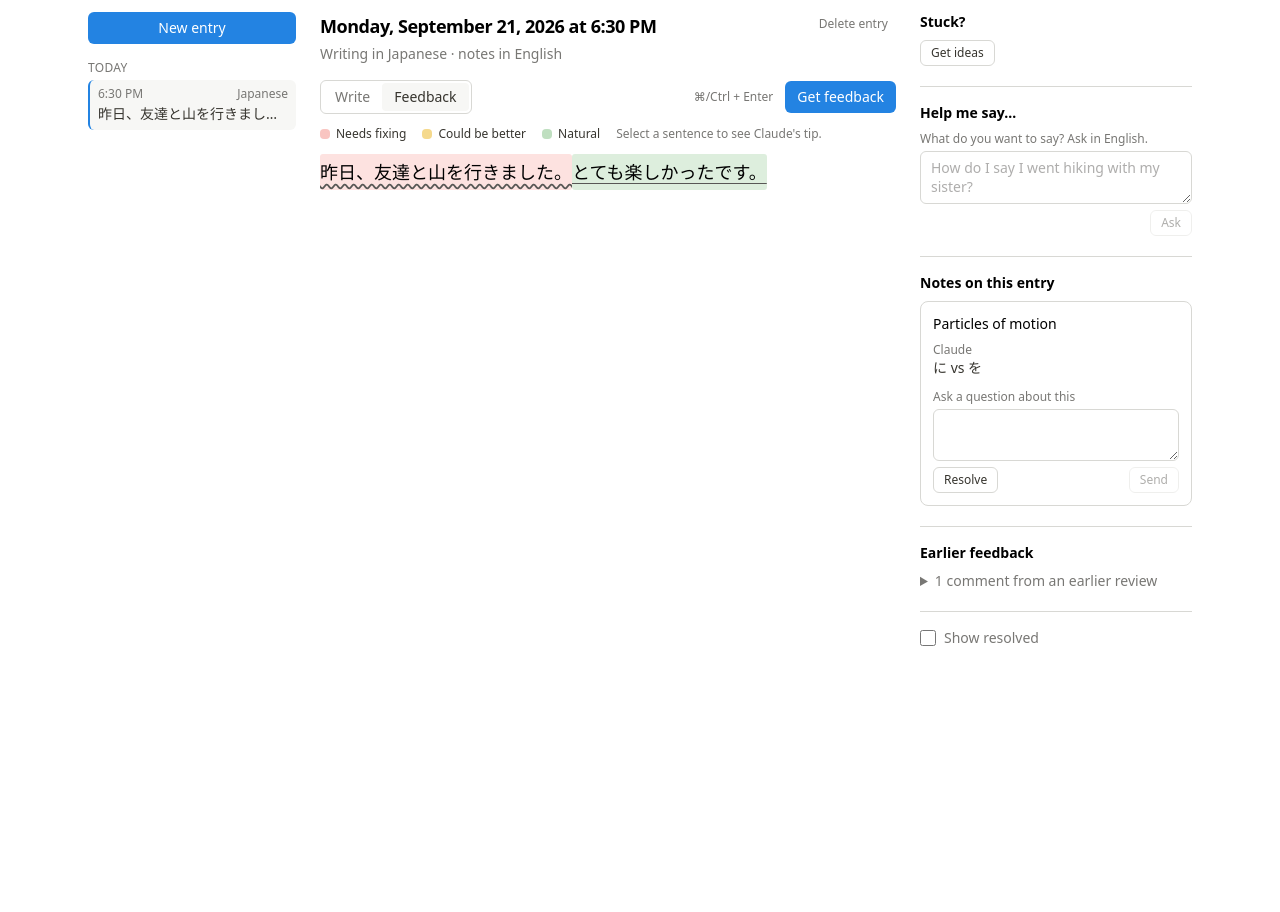
Test: DiaryView › keeps entry notes and earlier feedback in the side panel, hiding resolved ones until asked
Expected: the text "Particles of motion" is shown, [933,314,1057,332]
Expected: the text "Nice use of とても" is not shown
Click the checkbox labelled "Show resolved" at (928, 638), box [920,630,936,646]
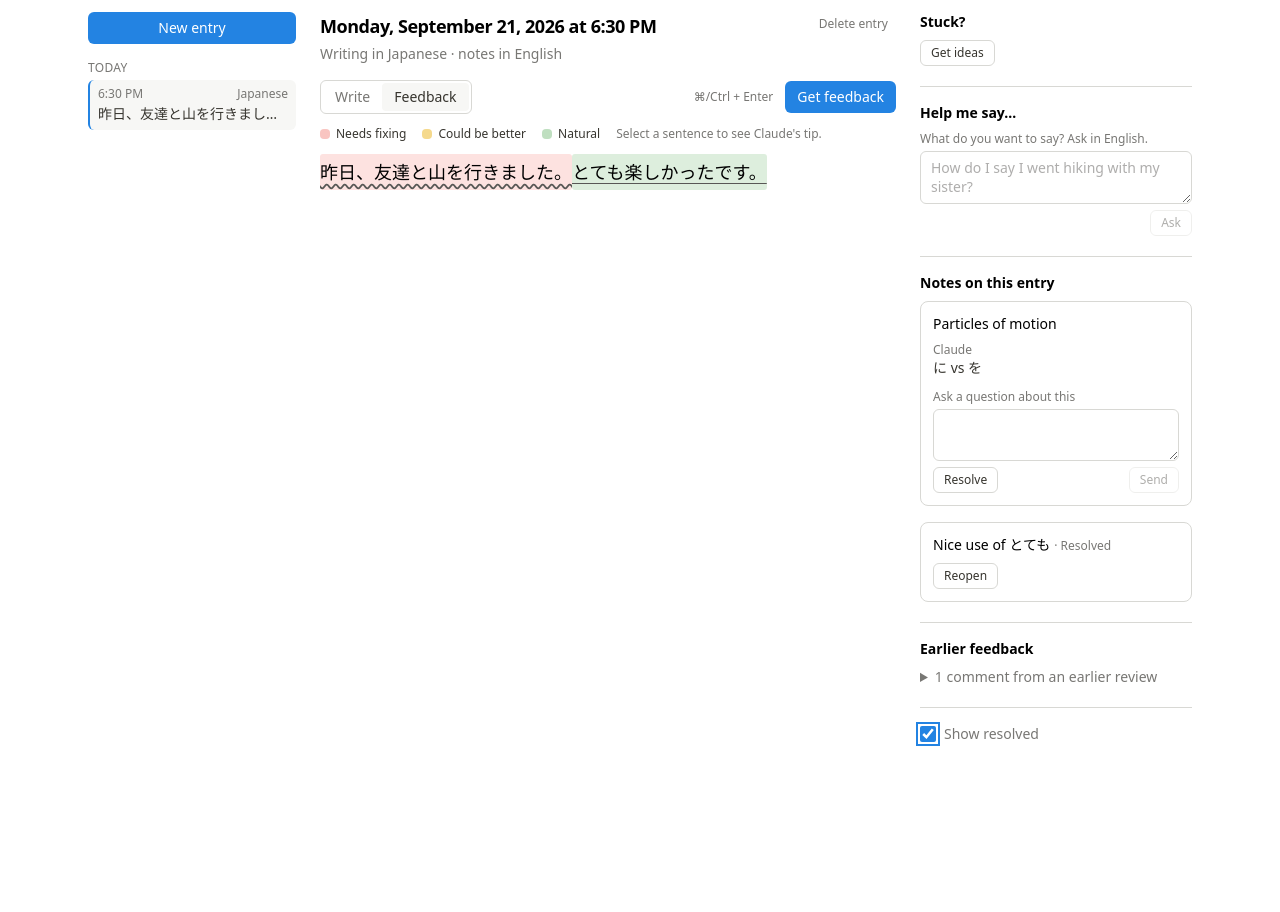
Now the text "Nice use of とても" is shown, box [933,535,1050,554]
